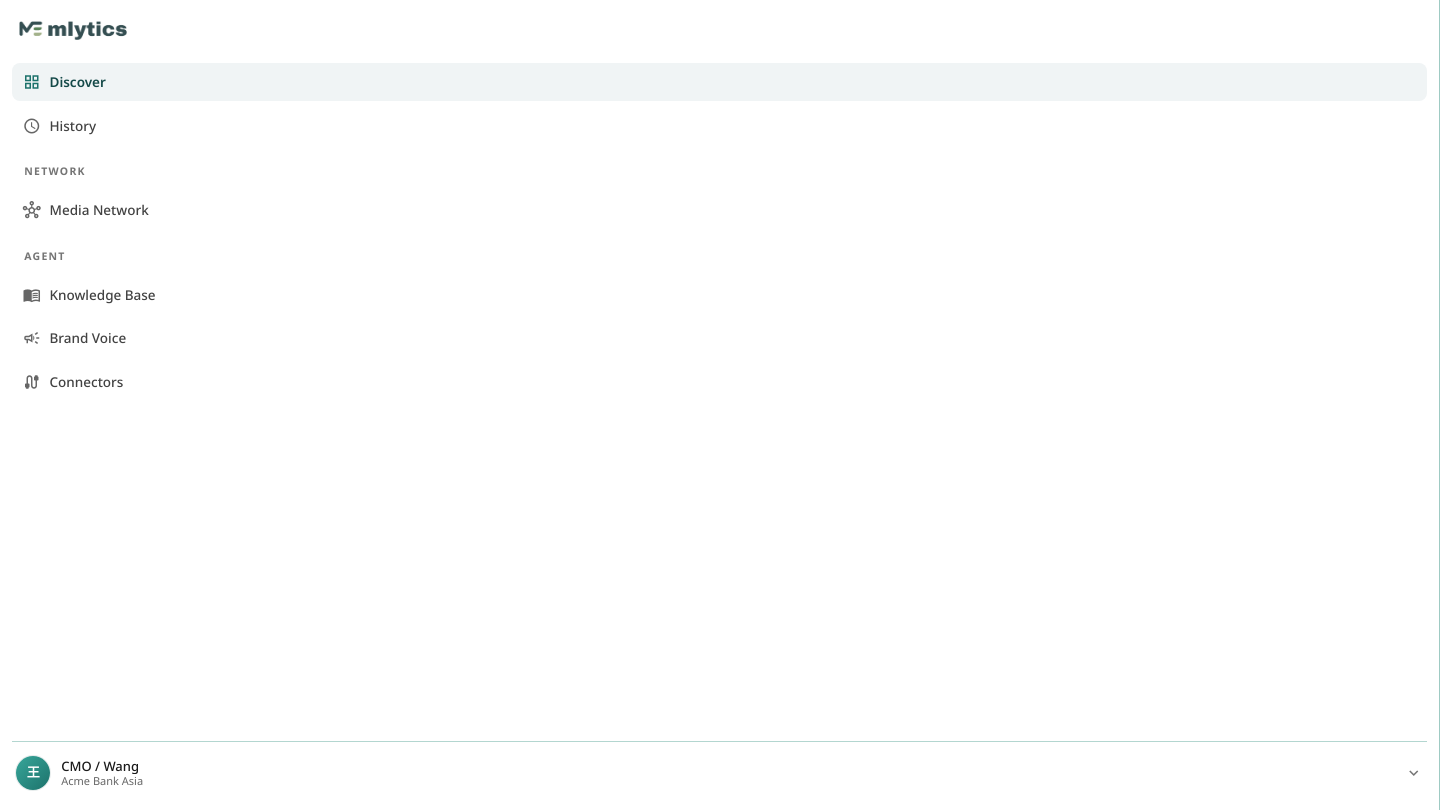
Sidebar user-menu popover › Reset demo routes to /demo/onboarding and closes the menu
Click the button with aria-label "account menu": (33, 773) [12,750,1427,796]
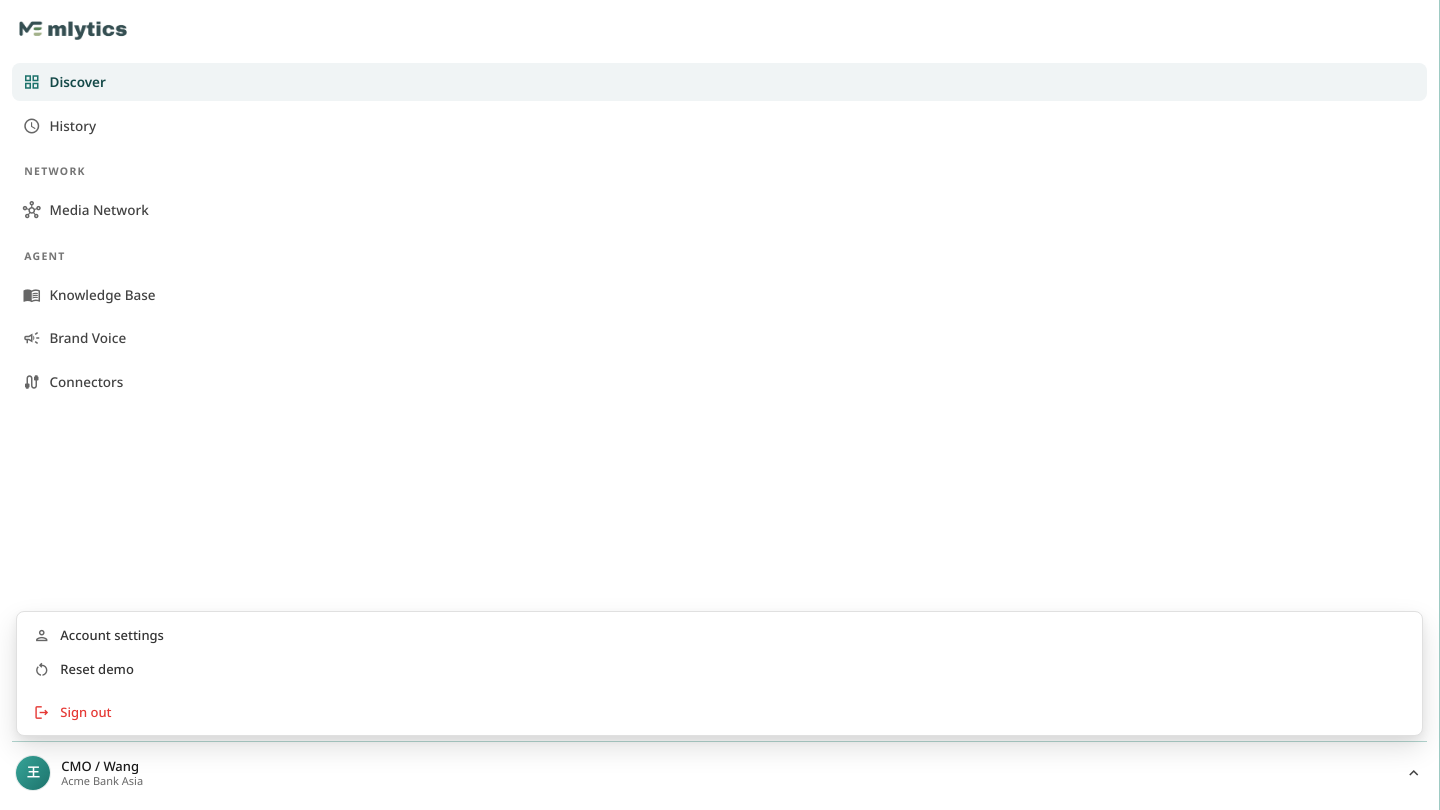
Click the menu item "Reset demo": (97, 669) [23,652,1416,686]
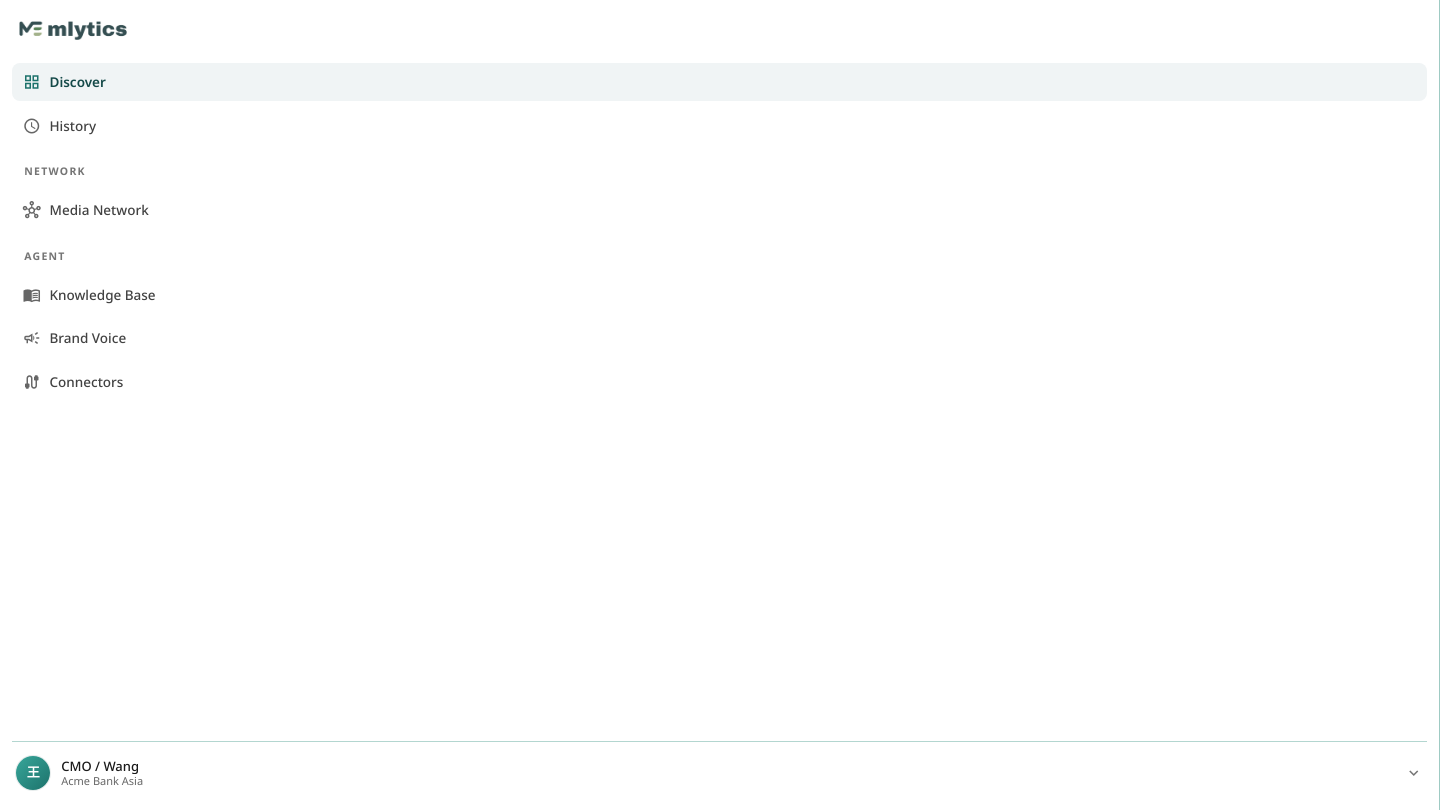
Check: the menu is gone
